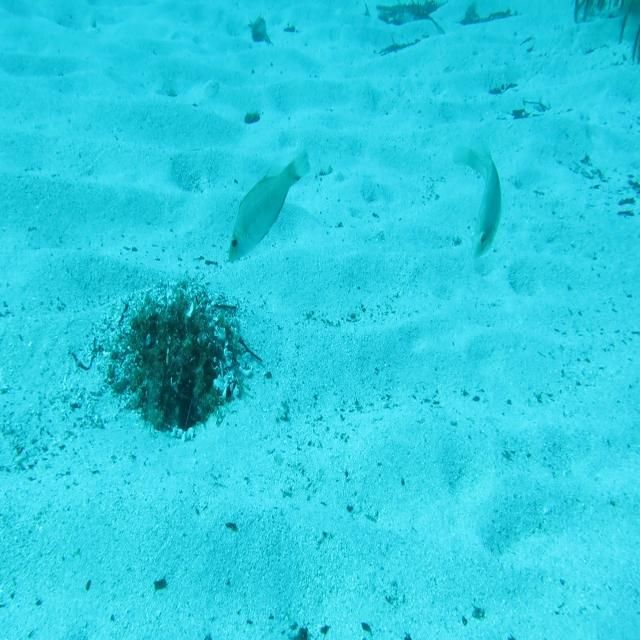LAND: (217, 140, 318, 272)
female: (446, 140, 512, 261)
nest: (120, 286, 256, 447)
